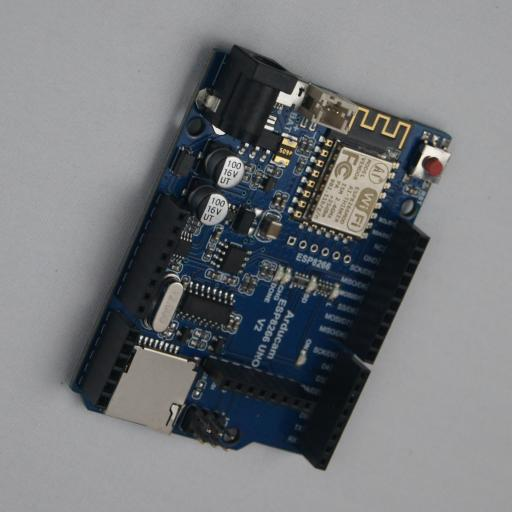Arduino Uno Camera Shield: (65, 42, 451, 470)
